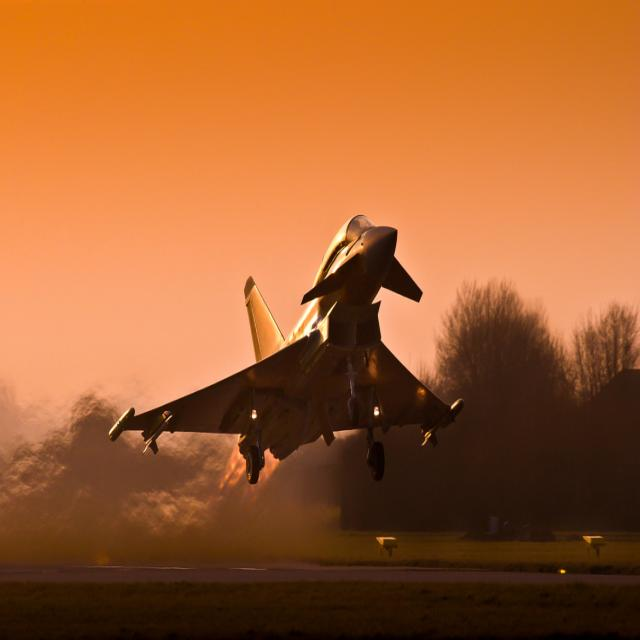MIL_Plane: (107, 213, 466, 486)
